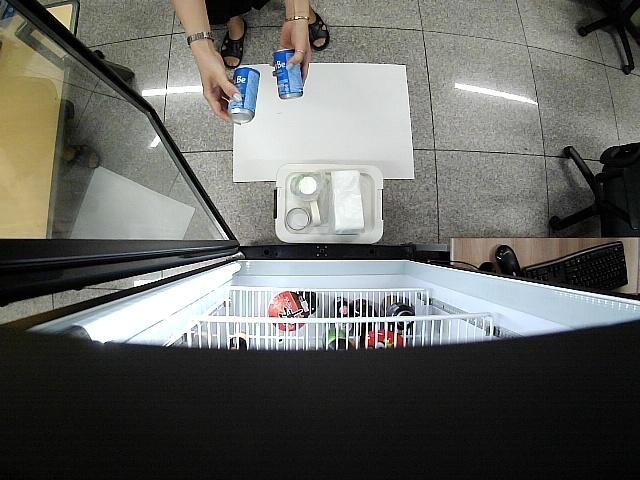15_letsbe: (225, 66, 259, 124), (272, 48, 304, 101)
